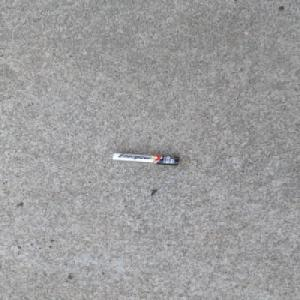Battery: (109, 151, 182, 166)
